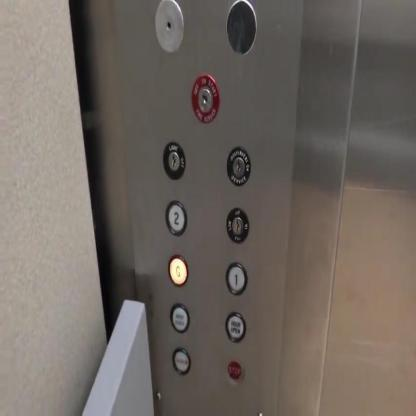1: (225, 260, 247, 296)
2: (165, 198, 187, 236)
G: (167, 253, 188, 286)
blur: (225, 310, 246, 342)
empty: (225, 0, 256, 55), (154, 0, 184, 54)
keyhole: (190, 72, 219, 122), (226, 144, 251, 184), (162, 140, 185, 180), (225, 205, 249, 243)
text_blur: (169, 302, 190, 333), (172, 348, 190, 375)
text_stop: (227, 357, 244, 386)
